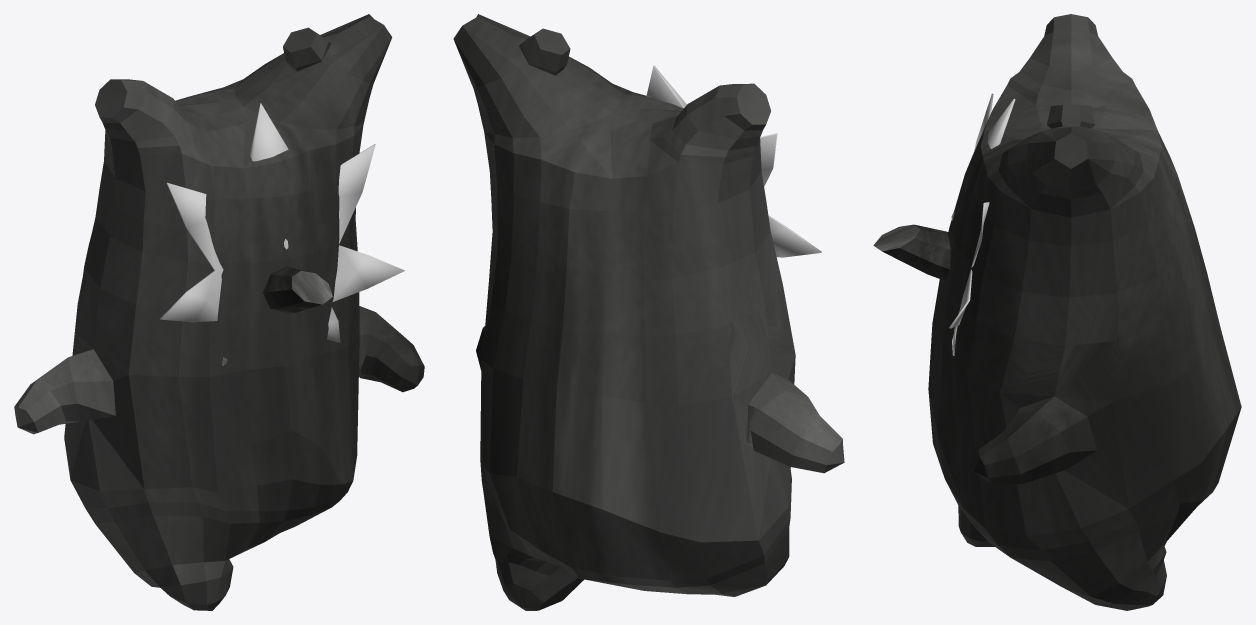
Rendered from frame_0014.obj.
The picture shows the model from 3 angles, left to right: view 1: azimuth 30°, elevation 25°; view 2: azimuth 150°, elevation 25°; view 3: azimuth 270°, elevation 25°; orthographic projection. The views are drawn at different scales.
Visible parts, largest first — view 1: korok, leaf, nose; view 2: korok, leaf; view 3: korok, nose, leaf.
Boxes of the visible parts, left/top/right/bottom form: korok: left=14, top=14, right=424, bottom=610; leaf: left=160, top=103, right=404, bottom=365; nose: left=263, top=266, right=332, bottom=313; korok: left=453, top=14, right=844, bottom=610; leaf: left=646, top=65, right=821, bottom=257; korok: left=928, top=14, right=1241, bottom=610; nose: left=873, top=224, right=950, bottom=280; leaf: left=949, top=93, right=1015, bottom=355.
Bounding box in the file's own units: 1.59 × 2.09 × 1.35.
